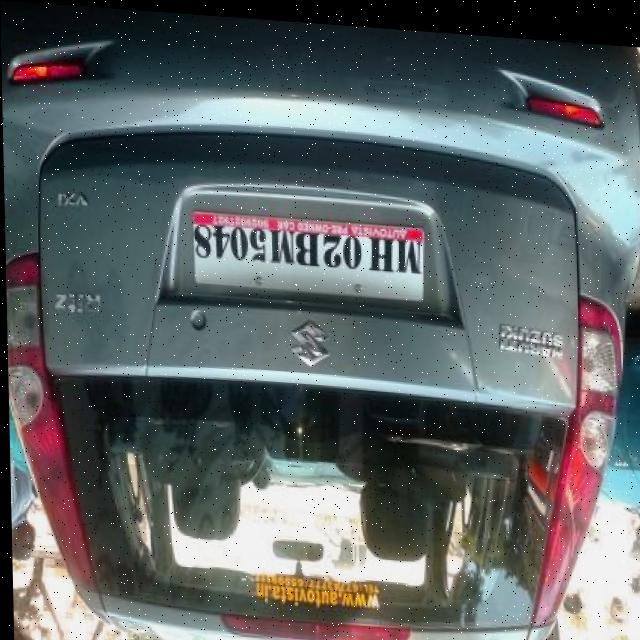plate: (189, 207, 429, 301)
